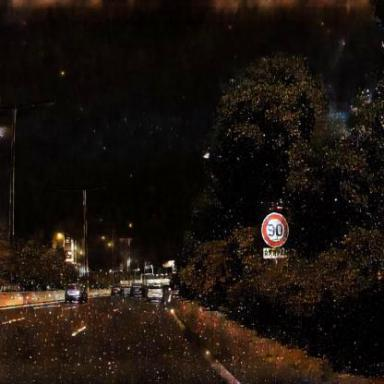Speed_limit_90: (263, 214, 288, 246)
